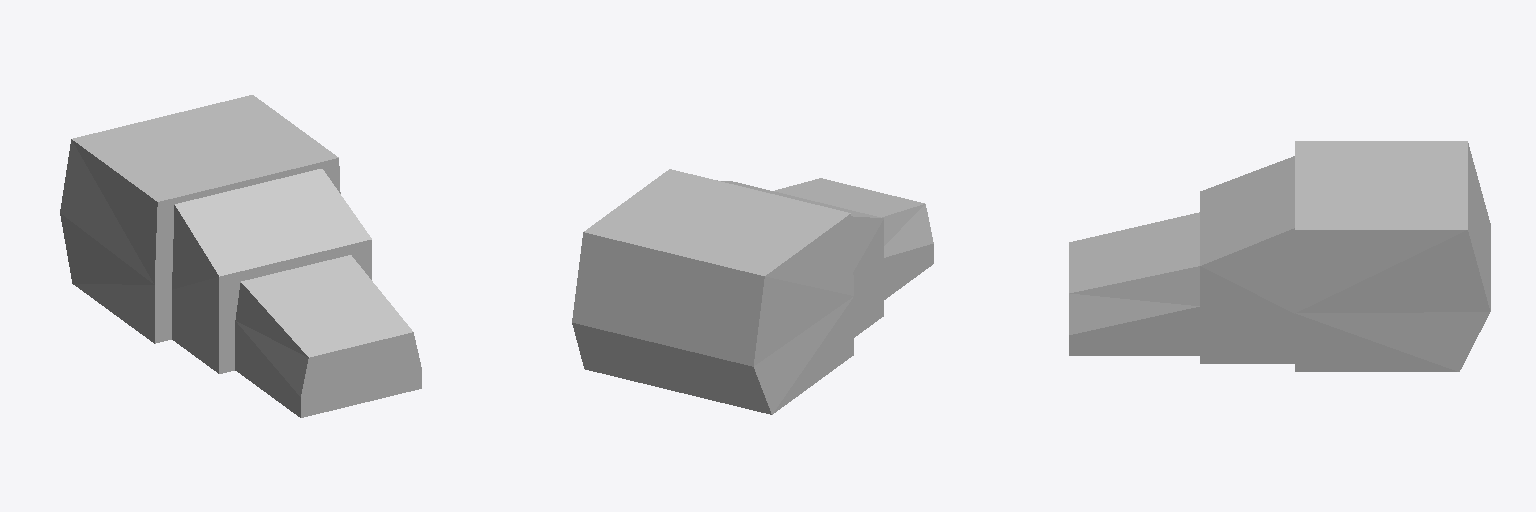
Rendered from R_FootO.obj.
3 views of the same model, side by side, from view 1: azimuth 30°, elevation 25°; view 2: azimuth 150°, elevation 25°; view 3: azimuth 270°, elevation 25° (orthographic).
Visible parts, largest first — view 1: pCube66 group5; view 2: pCube66 group5; view 3: pCube66 group5.
Boxes of the visible parts, box(x1,y1,x2,y2) form: pCube66 group5: box(60, 95, 421, 417); pCube66 group5: box(572, 169, 933, 414); pCube66 group5: box(1069, 141, 1490, 371).
Bounding box in the file's own units: 1 × 0.7173 × 1.94.